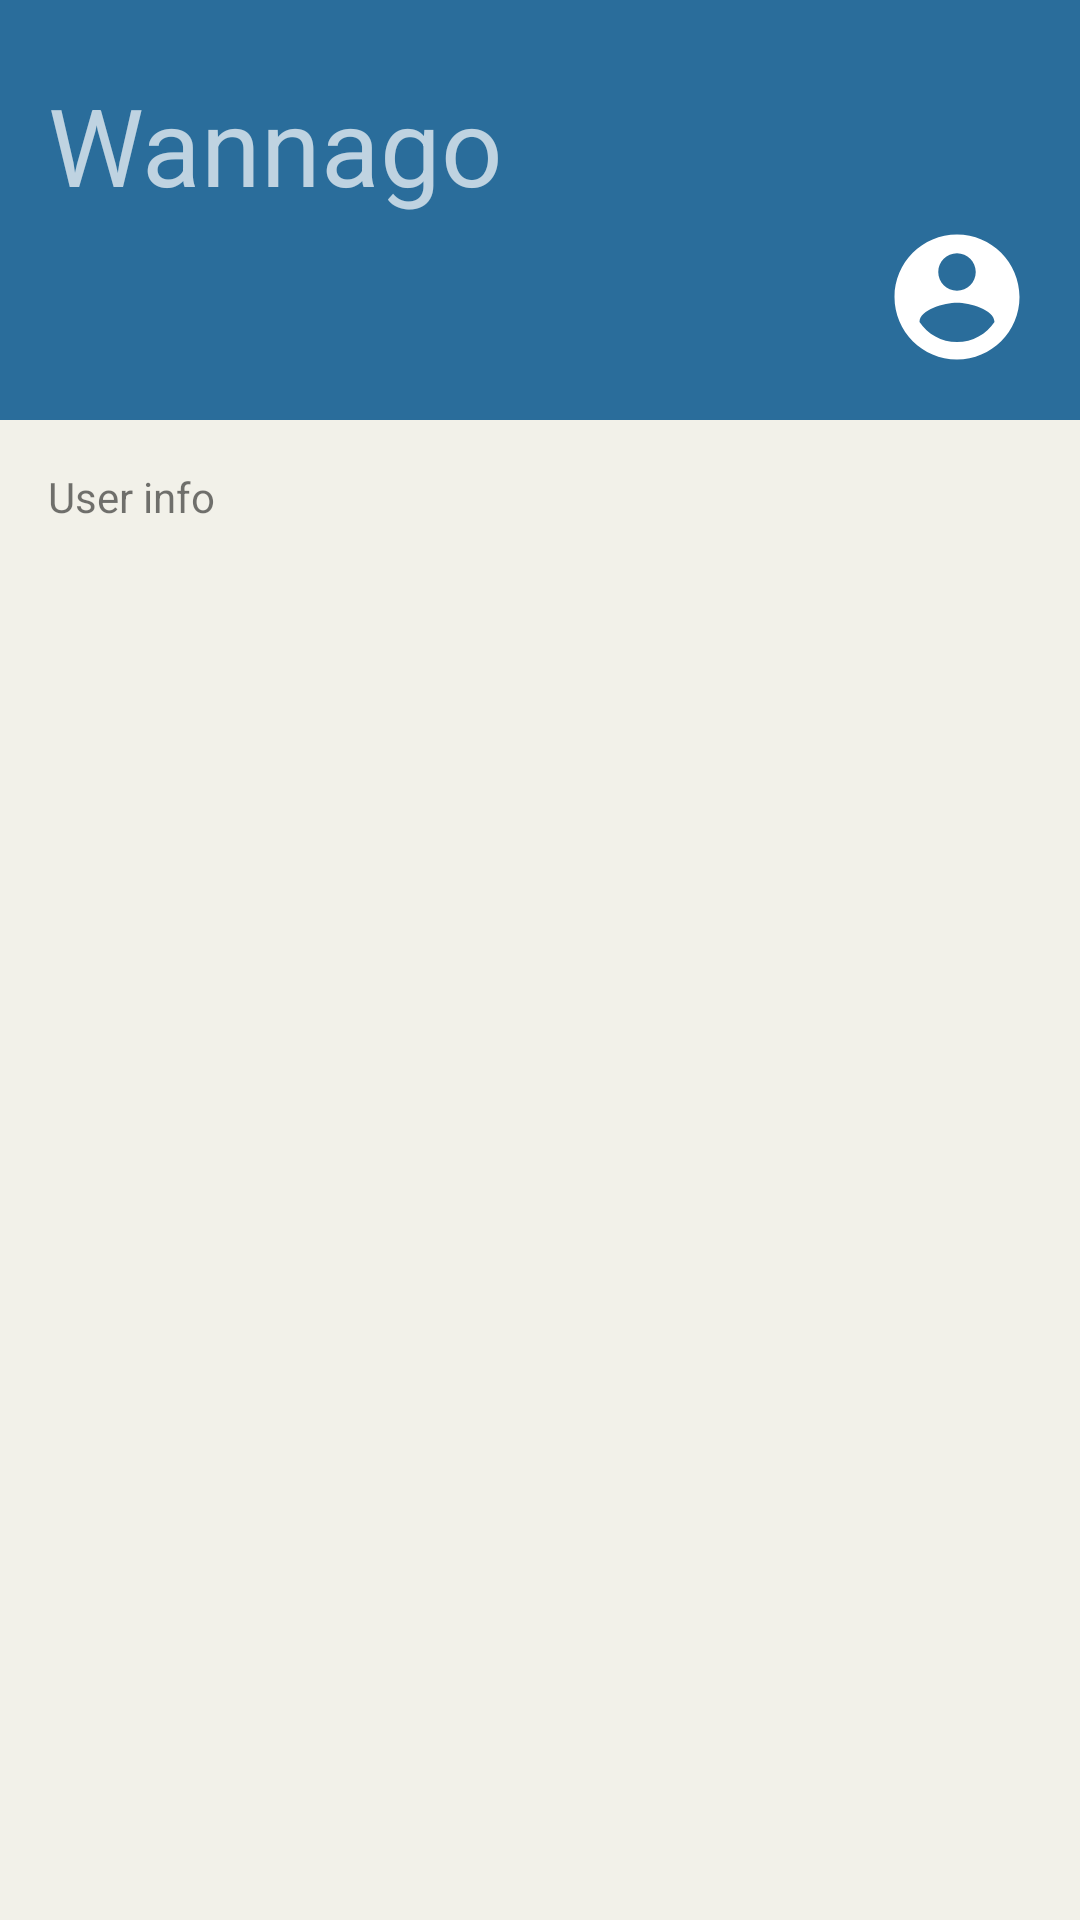

Icons on this 1080px×1920px Android screen, each with the point to tap as (x=x, y=y):
account circle: (x=957, y=297)
